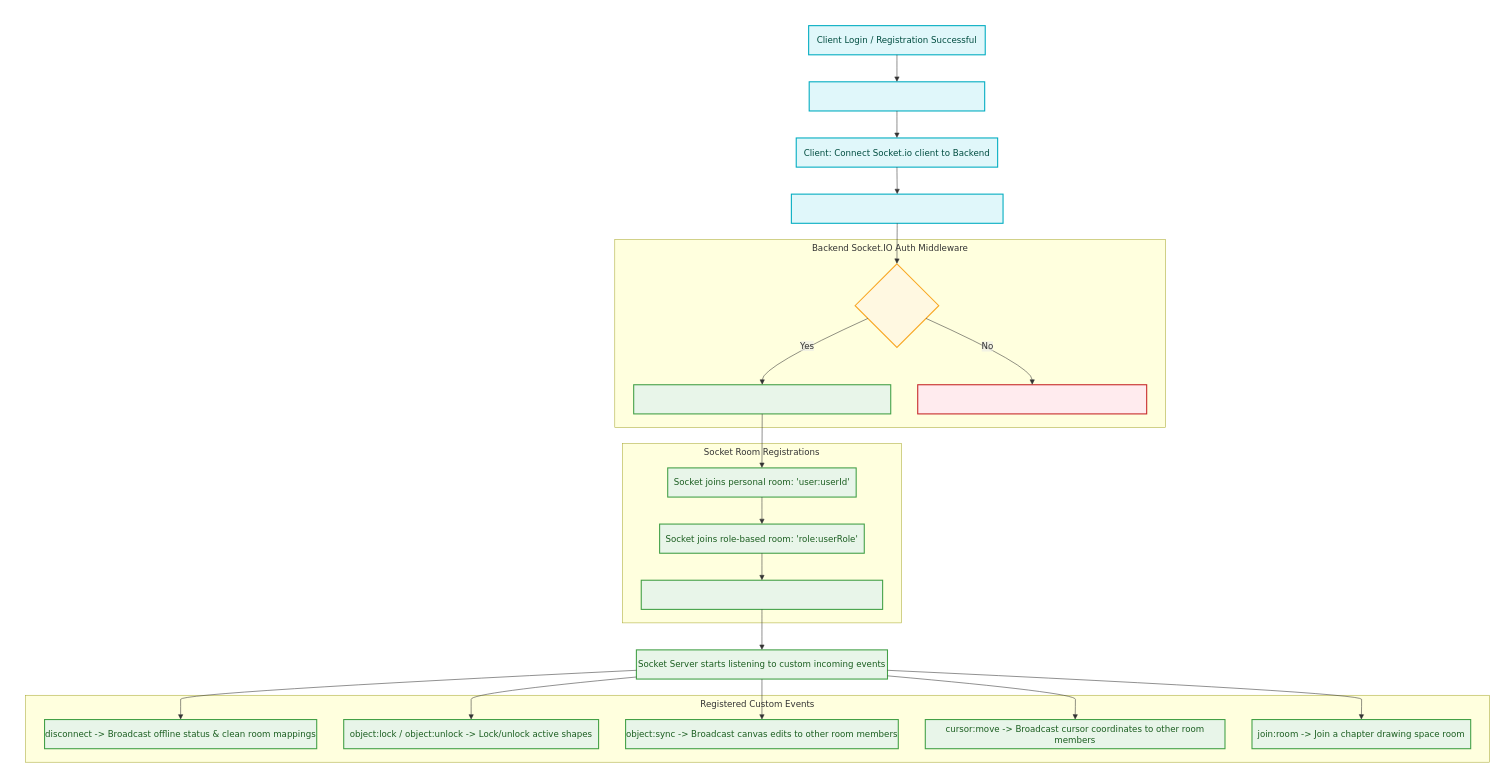
Some shapes in this 1499 by 772 pixel diagram are drawn without their labels. The centre of each missing label's shape, as x and y in pixels:
"Accept connection & bind socket.userId / socket.userRole" belongs at [762,399].
"Broadcast online status to peers: 'user:status' = online" belongs at [761,594].
"Reject connection (Error: Authentication required)" belongs at [1032,399].
"Retrieve JWT Token and store locally" belongs at [896,96].
"Send token via handshake.auth or query.token" belongs at [897,208].
"Token valid?" belongs at [896,305].
